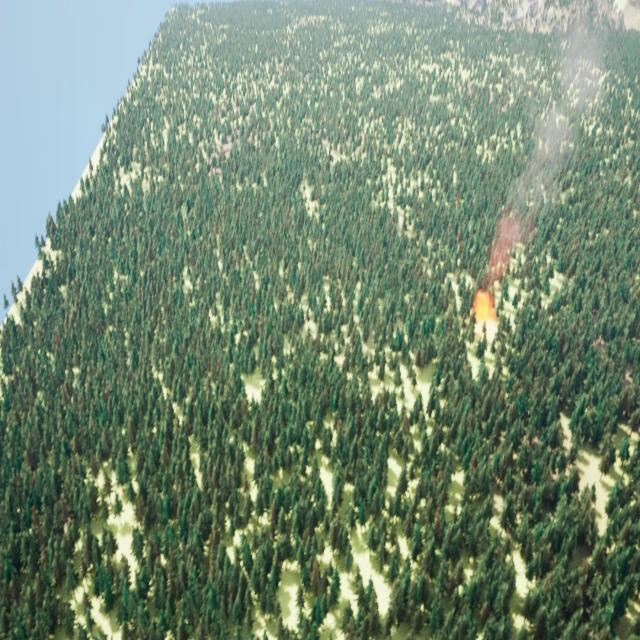fire: (474, 290, 498, 317)
smoke: (486, 24, 603, 282)
